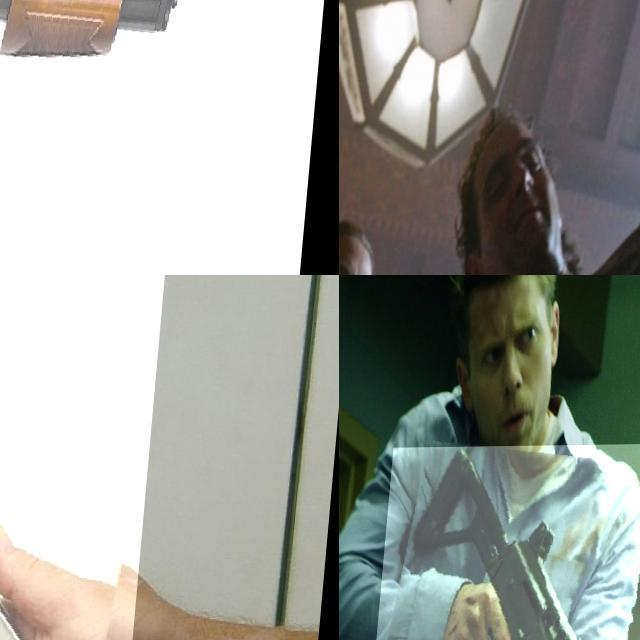-: (0, 275, 217, 640)
gun-knife-thesis - v11 Yolov5 augmented: (0, 0, 339, 275), (369, 444, 640, 640)
